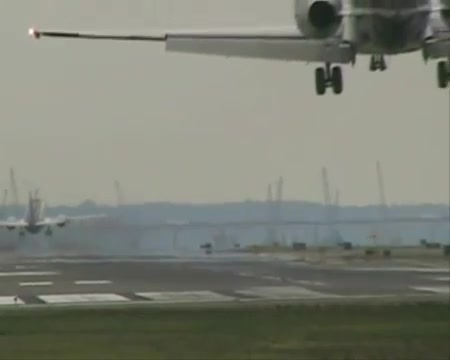aeroplane: (30, 1, 450, 96), (1, 187, 107, 242)
